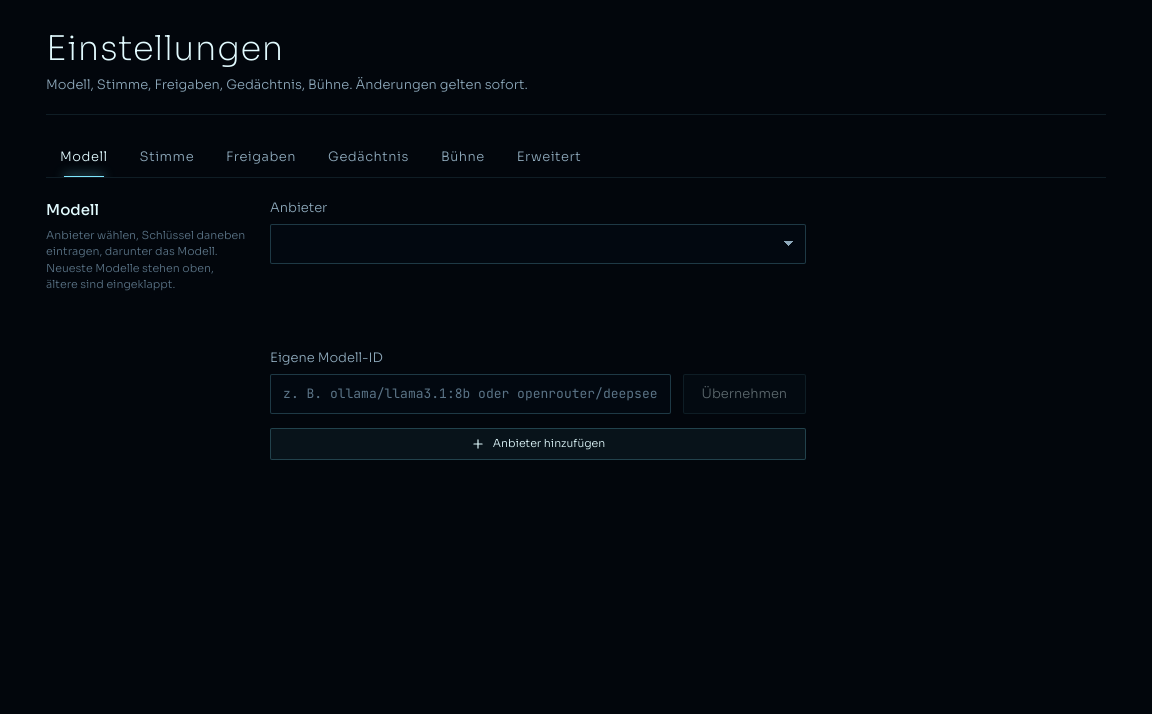
Einstellungen → Bühne › ist als Reiter erreichbar
Click the tab "Bühne" at [463, 157], box [427,136,499,177]
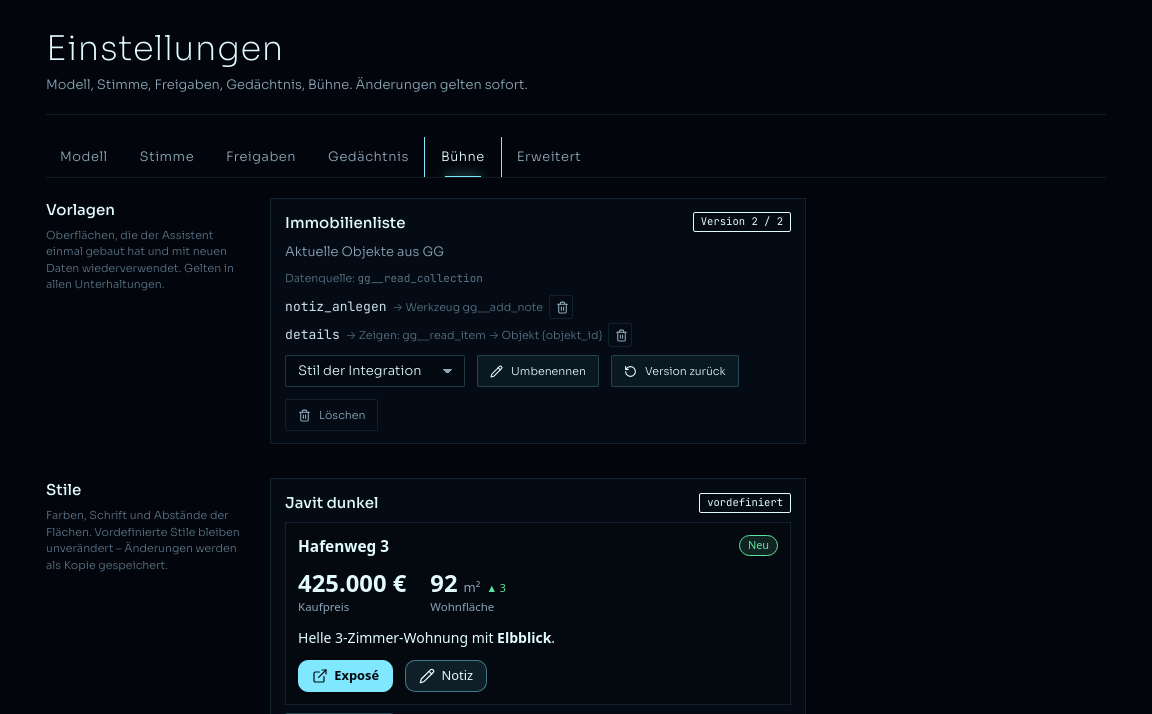
Expected: the heading "Vorlagen" is shown, [46,200,115,219]
